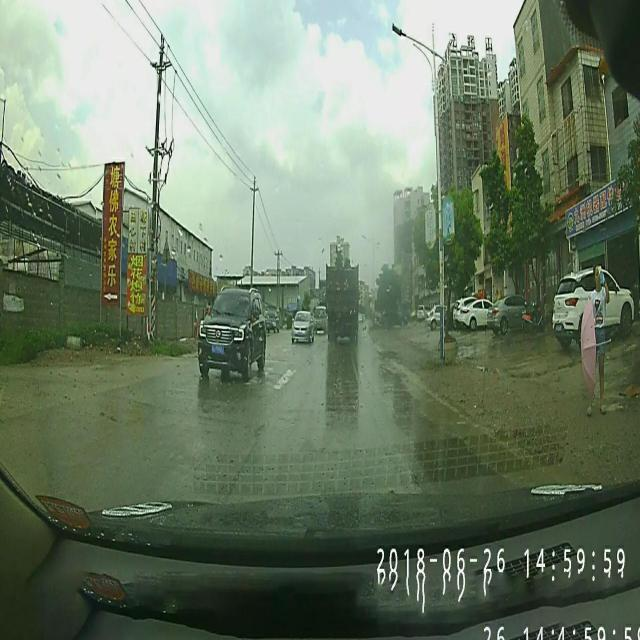car: (551, 270, 634, 348), (198, 288, 266, 380), (488, 295, 540, 335), (458, 298, 500, 332), (290, 307, 314, 343), (314, 304, 328, 334), (265, 307, 280, 334)
